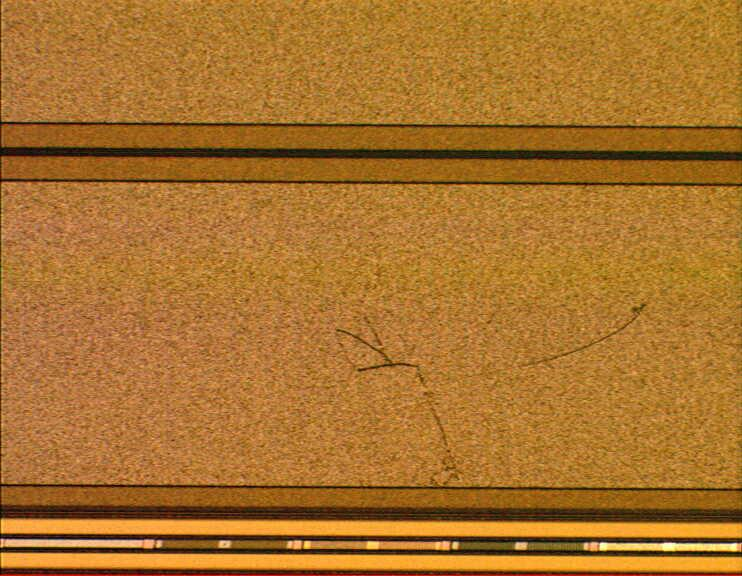SCRATCH: (326, 296, 654, 498)
